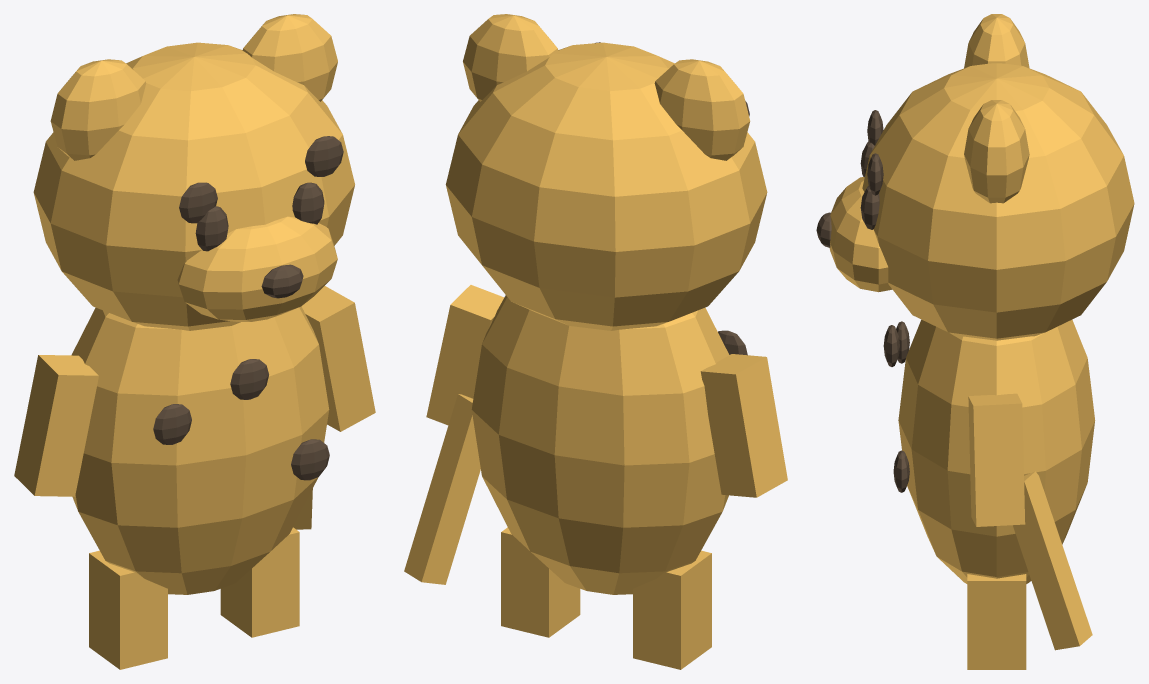
File: PLACEHOLDER_Lumi.fbx
3 views of the same model, side by side, from view 1: azimuth 30°, elevation 25°; view 2: azimuth 150°, elevation 25°; view 3: azimuth 270°, elevation 25° (orthographic). The views are drawn at different scales.
Visible parts, largest first — view 1: Lumi_Body, Lumi_Head, Lumi_Muzzle, Lumi_Arm_L, Lumi_Leg_L, Lumi_Ear_L, Lumi_Arm_R, Lumi_Leg_R, Lumi_Ear_R, Lumi_Spot_01, Lumi_Spot_00, Lumi_Spot_02 (+5 smaller); view 2: Lumi_Head, Lumi_Body, Lumi_Arm_L, Lumi_Tail, Lumi_Leg_L, Lumi_Ear_L, Lumi_Leg_R, Lumi_Arm_R, Lumi_Ear_R; view 3: Lumi_Head, Lumi_Body, Lumi_Arm_R, Lumi_Tail, Lumi_Leg_R, Lumi_Ear_R, Lumi_Muzzle, Lumi_Ear_L, Lumi_Eye_R, Lumi_Spot_01, Lumi_Spot_04, Lumi_Spot_02.
Boxes of the visible parts, x1,y1,x2,y2 form: Lumi_Body: (71,306,329,594); Lumi_Head: (33,42,354,330); Lumi_Muzzle: (177,216,337,321); Lumi_Arm_L: (14,355,98,496); Lumi_Leg_L: (89,550,167,669); Lumi_Ear_L: (50,59,146,160); Lumi_Arm_R: (301,286,375,431); Lumi_Leg_R: (220,527,299,637); Lumi_Ear_R: (242,14,337,101); Lumi_Spot_01: (291,439,329,480); Lumi_Spot_00: (153,404,191,444); Lumi_Spot_02: (230,359,268,399); Lumi_Head: (445,42,767,330); Lumi_Body: (471,295,729,594); Lumi_Arm_L: (700,354,787,497); Lumi_Tail: (404,394,480,584); Lumi_Leg_L: (633,550,711,669); Lumi_Ear_L: (654,59,750,160); Lumi_Leg_R: (501,527,580,637); Lumi_Arm_R: (426,285,504,425); Lumi_Ear_R: (463,14,558,101); Lumi_Head: (862,63,1134,340); Lumi_Body: (898,319,1095,583); Lumi_Arm_R: (968,393,1025,526); Lumi_Tail: (1013,471,1092,650); Lumi_Leg_R: (967,574,1026,669); Lumi_Ear_R: (964,100,1029,203); Lumi_Muzzle: (829,177,892,292); Lumi_Ear_L: (964,14,1029,68); Lumi_Eye_R: (860,185,879,229); Lumi_Spot_01: (893,450,909,492); Lumi_Spot_04: (867,153,883,195); Lumi_Spot_02: (883,325,899,366).
Size of the model in its own units: 114 by 191 by 97.
